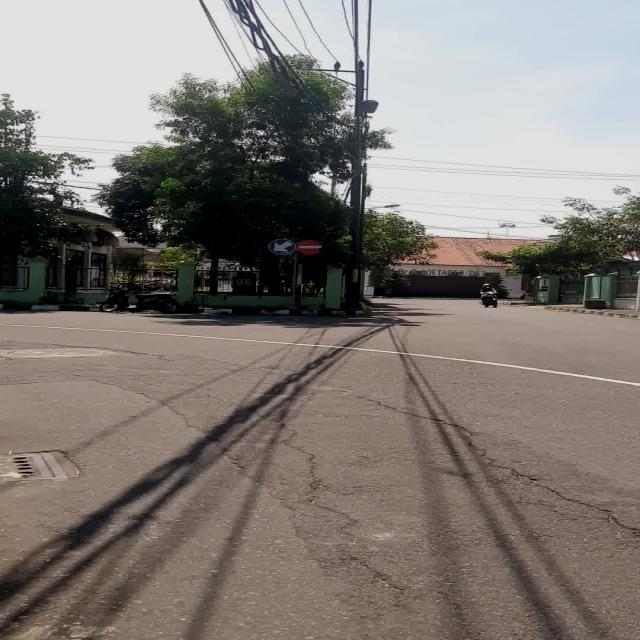Lajur Kiri: (268, 238, 296, 254)
